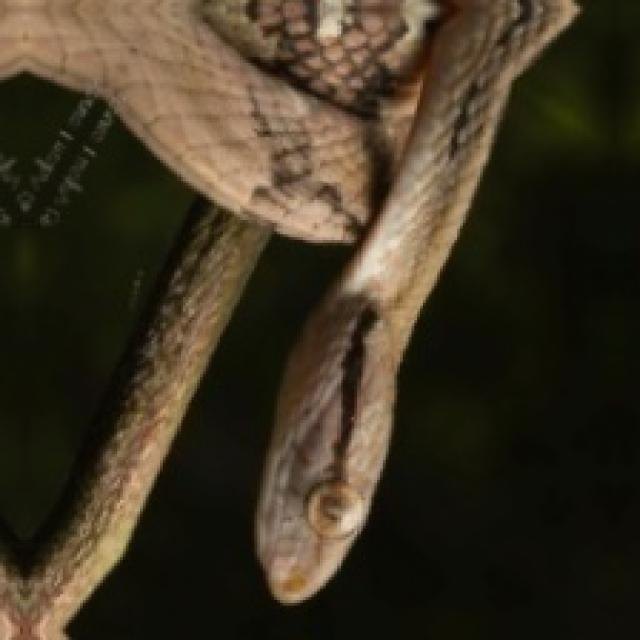dog-toothed cat snake: (0, 0, 574, 637), (69, 0, 637, 637), (0, 123, 191, 531)
